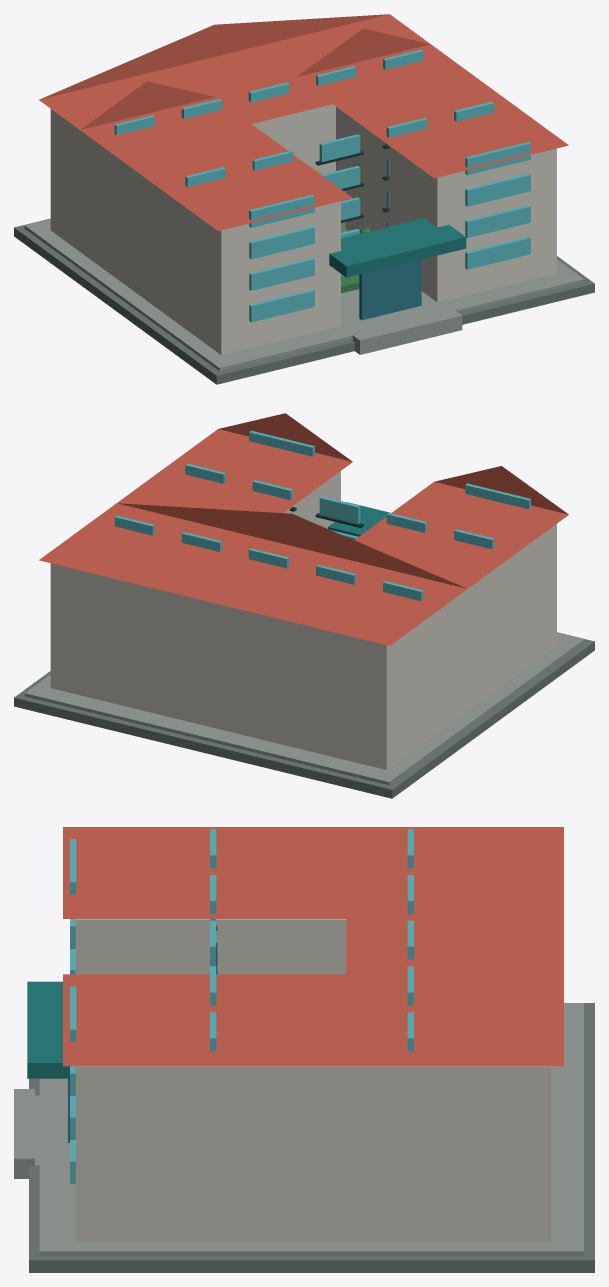
Rendered from university_lv1.glb.
3 views of the same model, one above another, from view 1: azimuth 30°, elevation 25°; view 2: azimuth 150°, elevation 25°; view 3: azimuth 270°, elevation 25° (orthographic). The views are drawn at different scales.
Parts seen in each view (by area): view 1: rough, glossy; view 2: rough, glossy; view 3: rough, glossy.
Part boxes in pixels (x1=…): rough: x1=14, y1=14, x2=594, y2=384; glossy: x1=114, y1=49, x2=530, y2=322; rough: x1=14, y1=413, x2=594, y2=798; glossy: x1=114, y1=430, x2=530, y2=601; rough: x1=14, y1=827, x2=594, y2=1272; glossy: x1=68, y1=829, x2=413, y2=1183.
Size of the model in its own units: 9.8 by 4.3 by 9.34.
